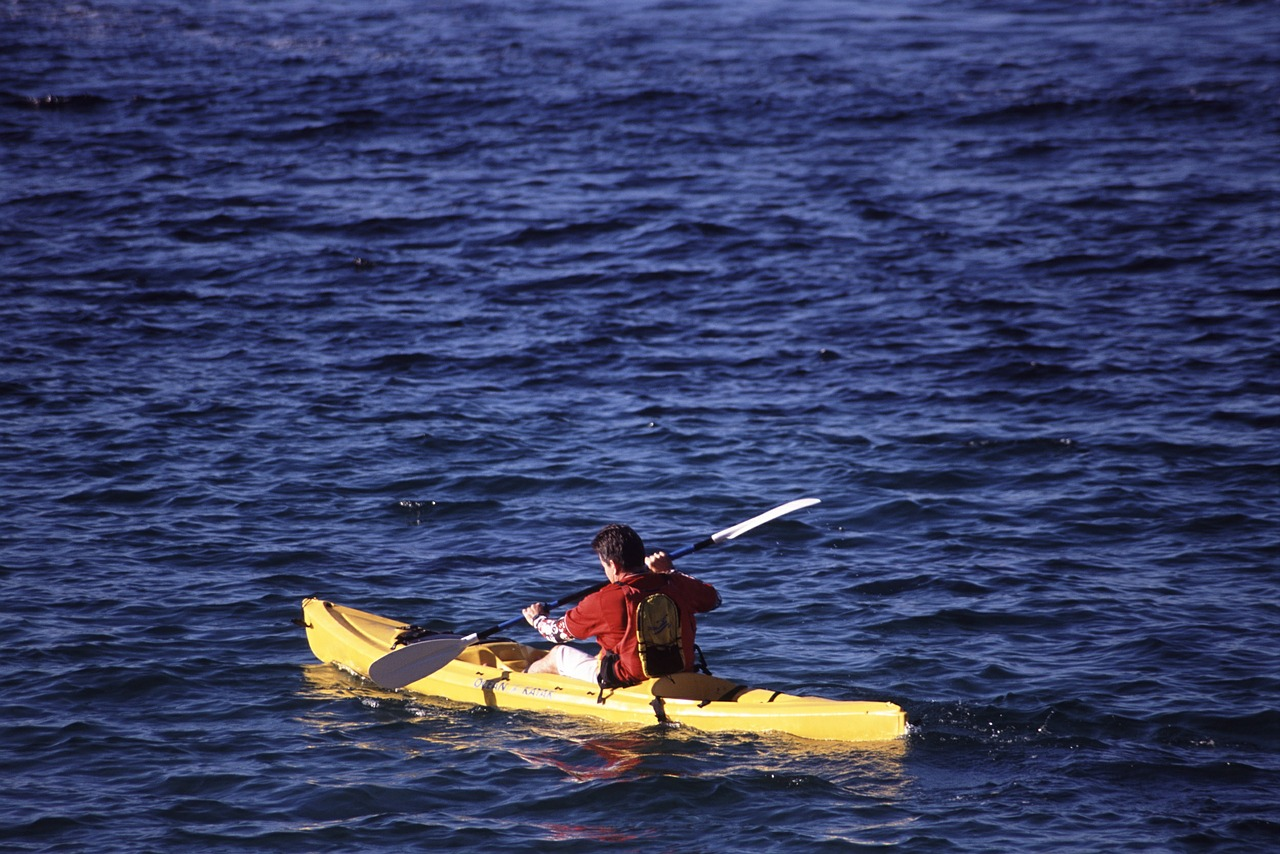kayak: (293, 581, 921, 754)
